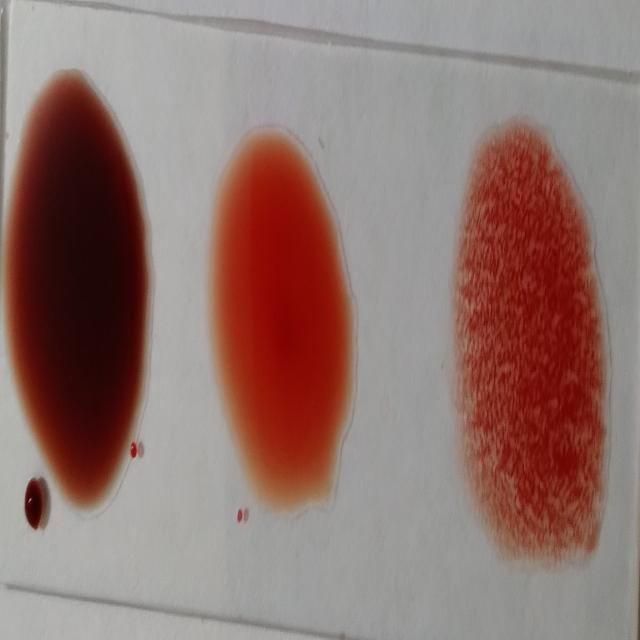D: (455, 127, 611, 548)
